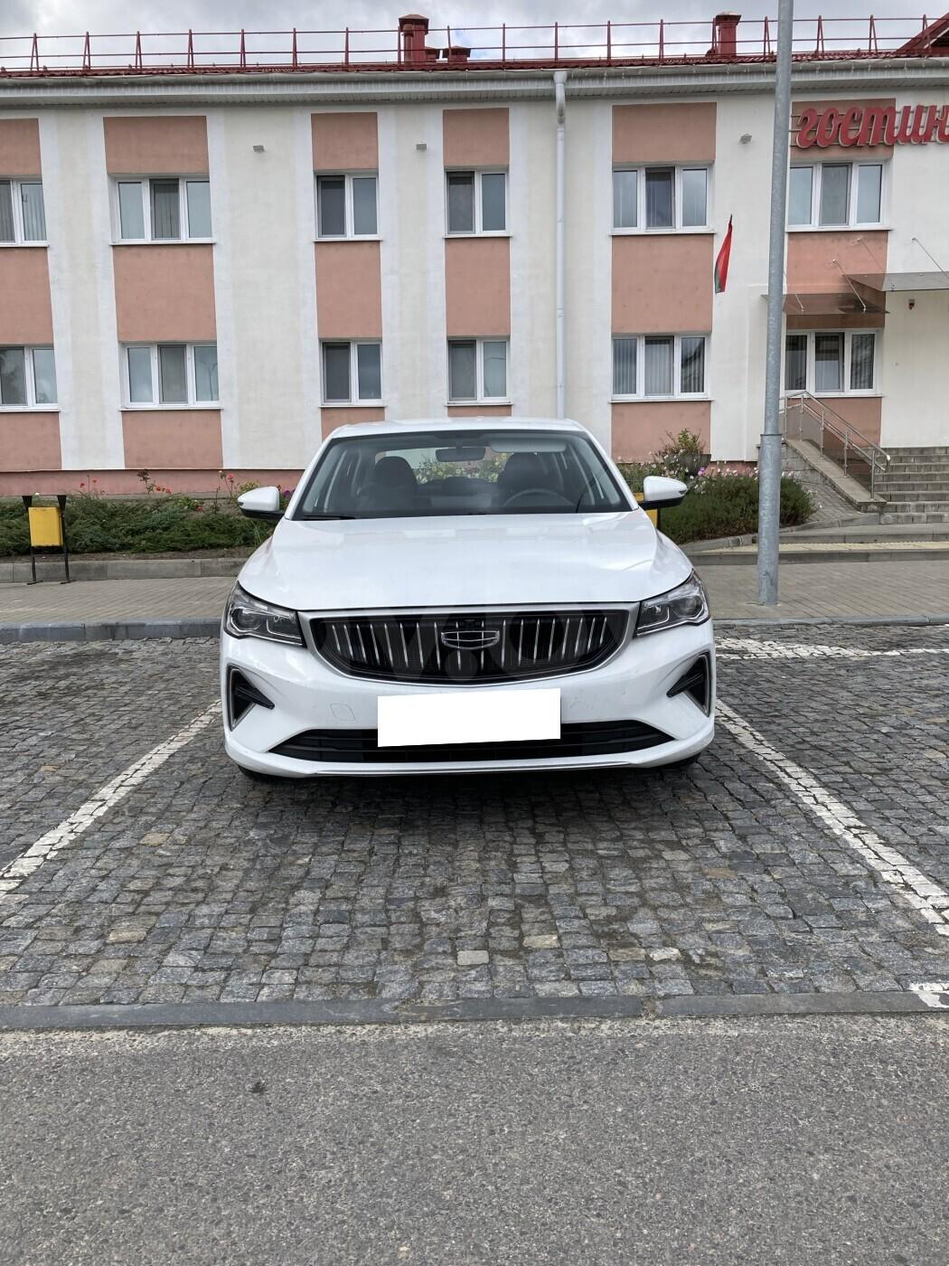Emgrand_2021: (217, 407, 732, 819)
